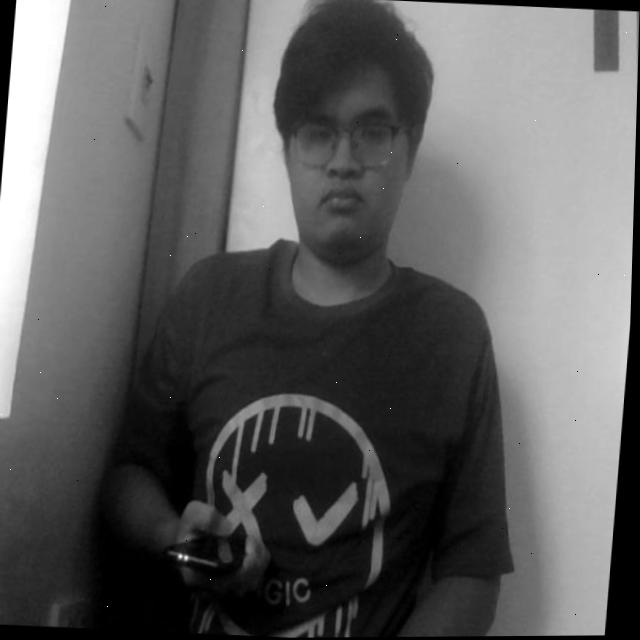phone: (159, 504, 254, 600)
